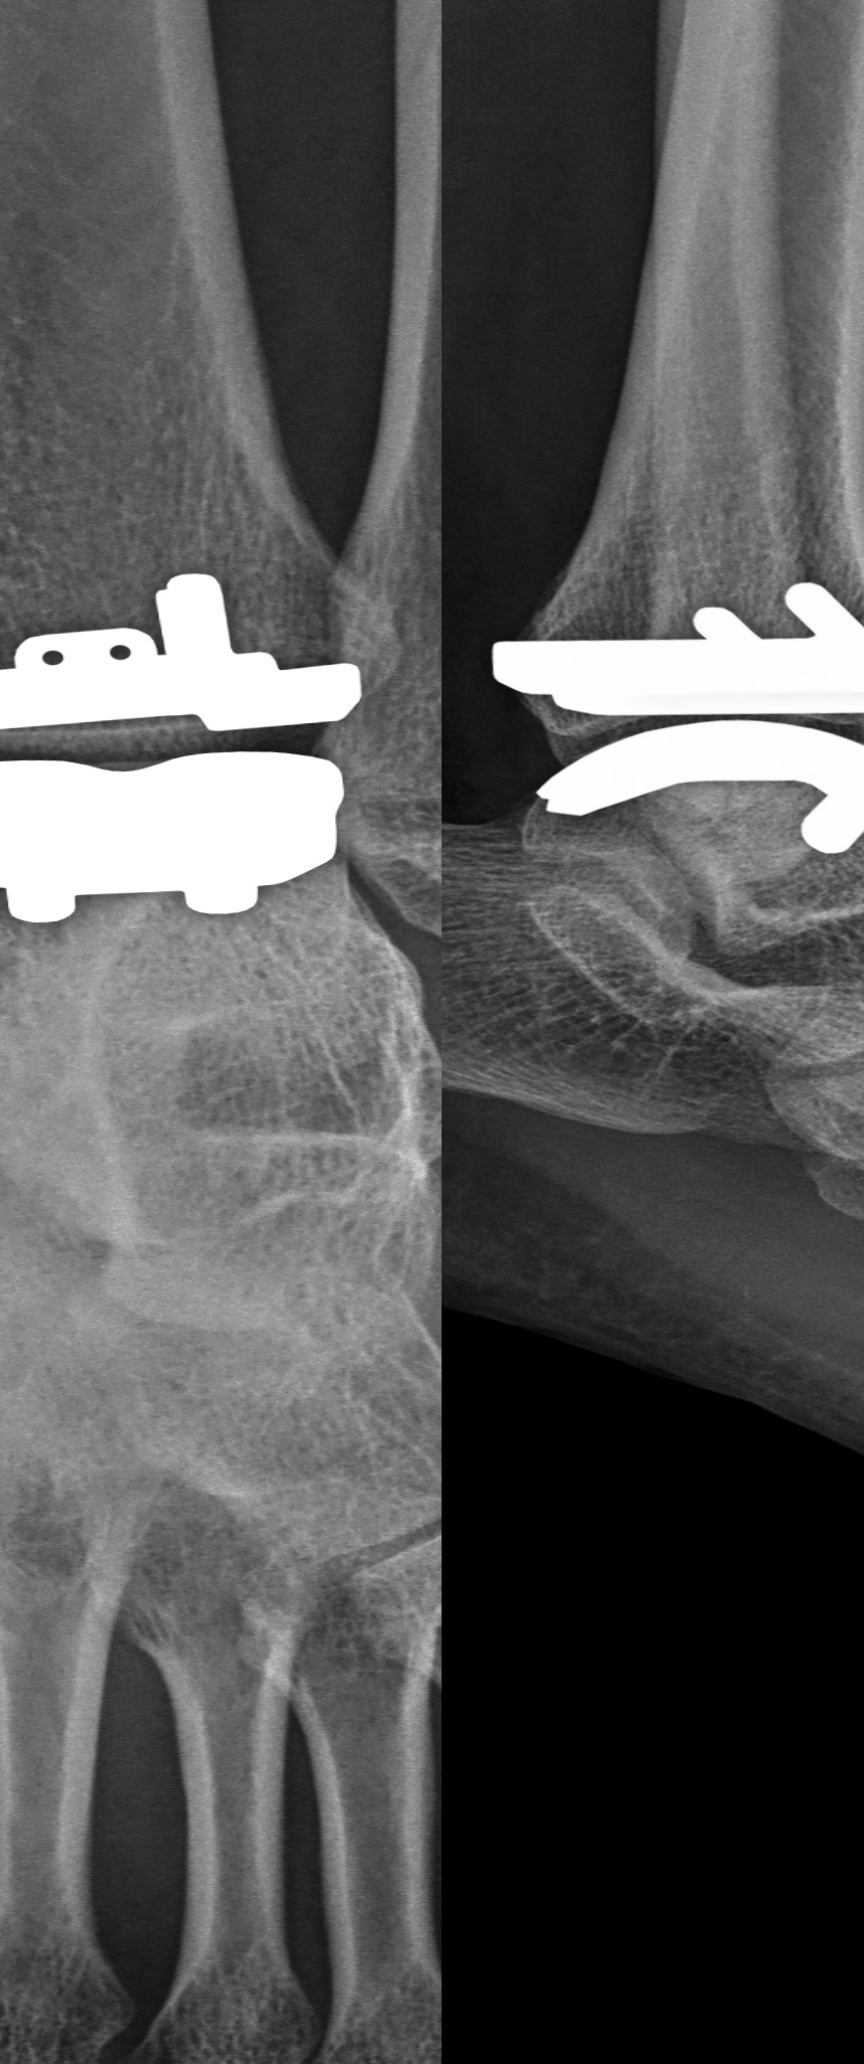Cadence-Integra: (3, 561, 386, 971), (470, 577, 864, 873)
